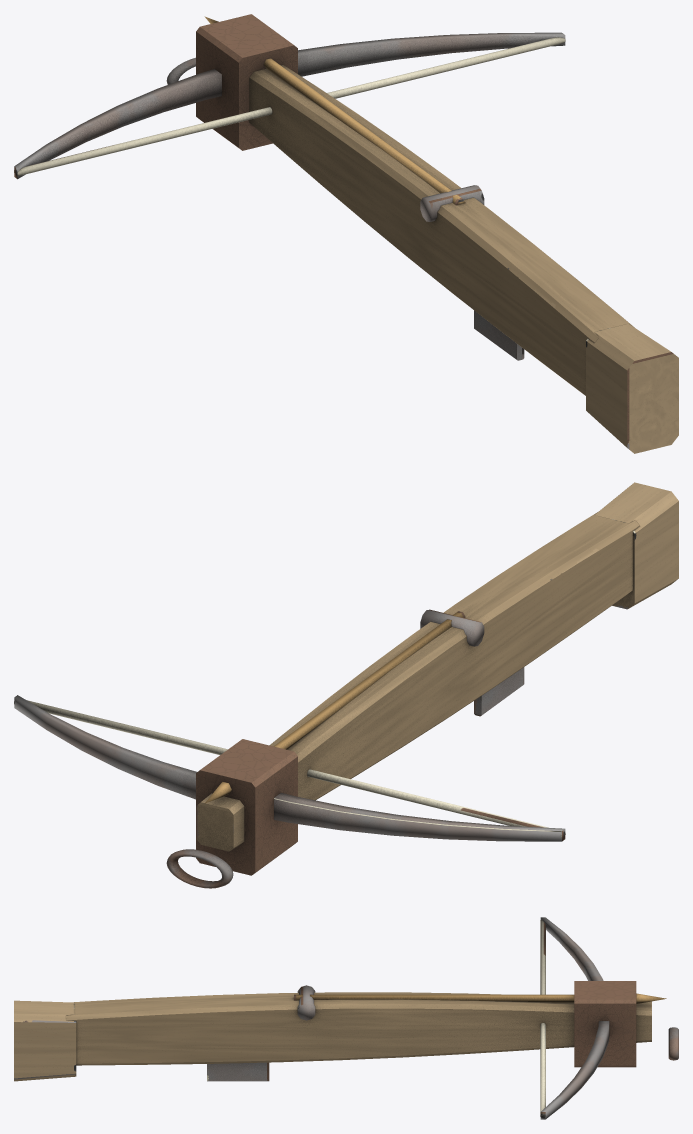
The model's file is light-crossbow.glb.
3 views of the same model, one above another, from view 1: azimuth 30°, elevation 25°; view 2: azimuth 150°, elevation 25°; view 3: azimuth 270°, elevation 25° (orthographic). The views are drawn at different scales.
Visible parts, largest first — view 1: light-crossbow; view 2: light-crossbow; view 3: light-crossbow.
Part boxes in pixels (left/top/right/bottom): light-crossbow: left=14, top=14, right=678, bottom=453; light-crossbow: left=14, top=482, right=678, bottom=888; light-crossbow: left=14, top=917, right=678, bottom=1119.
Bounding box in the file's own units: 1.48 × 0.32 × 2.14.
1 material, 1 textured.
